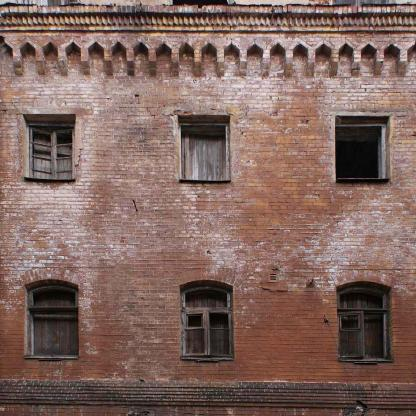Building Outline: (0, 0, 416, 416)
Facade: (0, 0, 416, 416)
Floor: (0, 233, 416, 402), (0, 75, 416, 226), (0, 0, 416, 65)
Floor Slab: (0, 65, 416, 75), (0, 401, 415, 411), (0, 225, 415, 232)
Molding: (0, 4, 416, 76)
Window: (336, 280, 392, 361), (179, 279, 234, 360), (24, 279, 79, 358), (335, 116, 390, 180), (23, 114, 76, 180), (178, 115, 230, 181)
